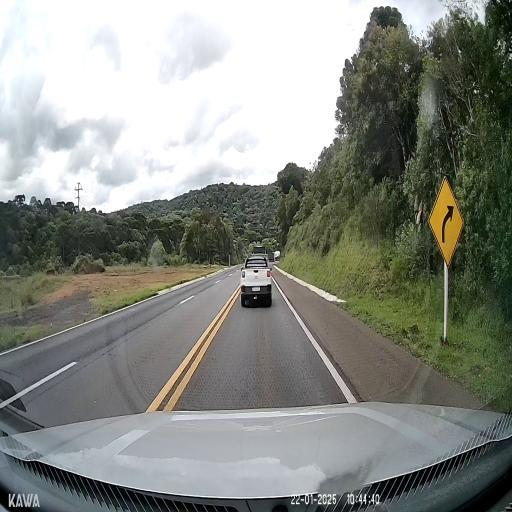A-2b: (428, 175, 464, 267)
